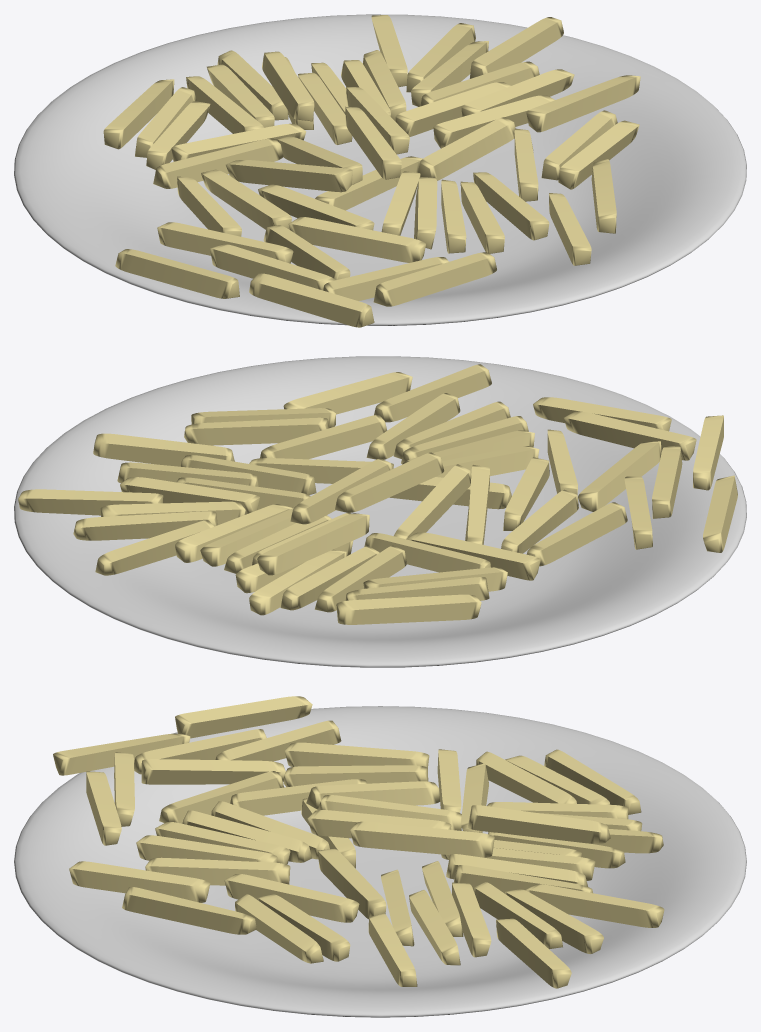
File: french fries.fbx
The picture shows the model from 3 angles, top to bottom: view 1: azimuth 30°, elevation 25°; view 2: azimuth 150°, elevation 25°; view 3: azimuth 270°, elevation 25°; orthographic projection.
Visible parts, largest first — view 1: Plate, Fry.045, Fry.026, Fry.038, Fry.015, Fry.053, Fry.010, Fry.048, Fry.052, Fry.055, Fry.013, Fry.037 (+38 smaller); view 2: Plate, Fry.002, Fry.059, Fry.003, Fry.010, Fry.039, Fry.017, Fry.046, Fry.012, Fry.037, Fry.054, Fry.007 (+38 smaller); view 3: Plate, Fry.014, Fry.003, Fry.015, Fry.007, Fry.054, Fry.019, Fry.025, Fry.046, Fry.029, Fry.011, Fry.026 (+39 smaller).
Part boxes in pixels (box(x1,y1,x2,y2)): Plate: box(14, 14, 746, 325); Fry.045: box(288, 217, 425, 262); Fry.026: box(249, 273, 374, 327); Fry.038: box(373, 252, 496, 306); Fry.015: box(115, 249, 239, 298); Fry.053: box(226, 160, 352, 192); Fry.010: box(526, 75, 640, 132); Fry.048: box(418, 117, 515, 180); Fry.052: box(153, 138, 283, 188); Fry.055: box(210, 244, 335, 290); Fry.013: box(157, 222, 293, 263); Fry.037: box(469, 17, 563, 78); Plate: box(14, 356, 746, 667); Fry.002: box(336, 594, 481, 624); Fry.059: box(184, 417, 328, 445); Fry.003: box(257, 513, 369, 575); Fry.010: box(93, 433, 234, 466); Fry.039: box(73, 511, 217, 540); Fry.017: box(564, 411, 696, 460); Fry.046: box(260, 415, 387, 459); Fry.012: box(334, 452, 444, 512); Fry.037: box(18, 489, 163, 515); Fry.054: box(283, 372, 412, 414); Fry.007: box(374, 364, 491, 422); Plate: box(14, 706, 746, 1017); Fry.014: box(350, 821, 494, 857); Fry.003: box(467, 805, 610, 843); Fry.015: box(175, 696, 312, 738); Fry.007: box(69, 861, 210, 902); Fry.054: box(122, 887, 256, 934); Fry.019: box(141, 759, 285, 784); Fry.025: box(525, 884, 664, 927); Fry.046: box(224, 874, 359, 922); Fry.029: box(284, 742, 429, 768); Fry.011: box(145, 857, 290, 885); Fry.026: box(53, 733, 190, 775).
Size of the model in its own units: 38.77 by 5.24 by 38.77.
